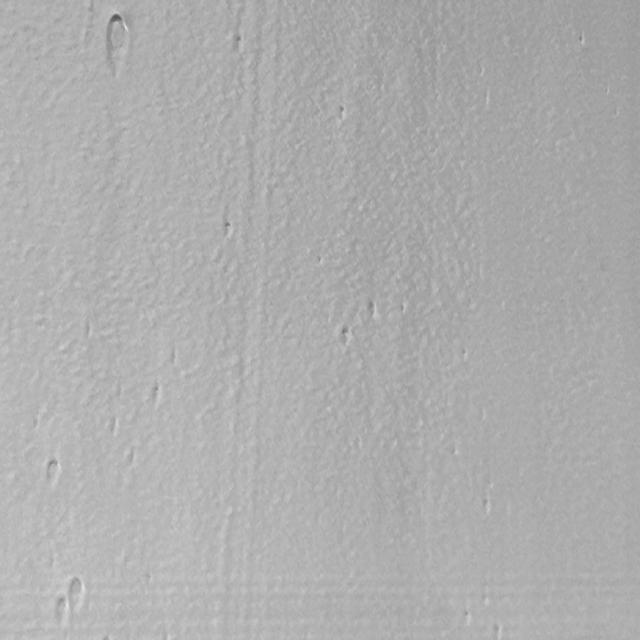pin holes: (99, 9, 135, 79), (40, 456, 62, 488), (67, 576, 88, 609), (49, 596, 70, 627), (336, 322, 356, 348), (477, 493, 497, 519), (362, 299, 381, 324), (149, 382, 166, 406), (232, 34, 248, 58), (491, 621, 506, 640), (336, 105, 350, 125), (460, 609, 475, 627), (223, 221, 235, 239), (577, 33, 589, 51), (109, 419, 119, 436), (171, 349, 178, 367), (128, 447, 134, 465), (85, 324, 92, 339)
